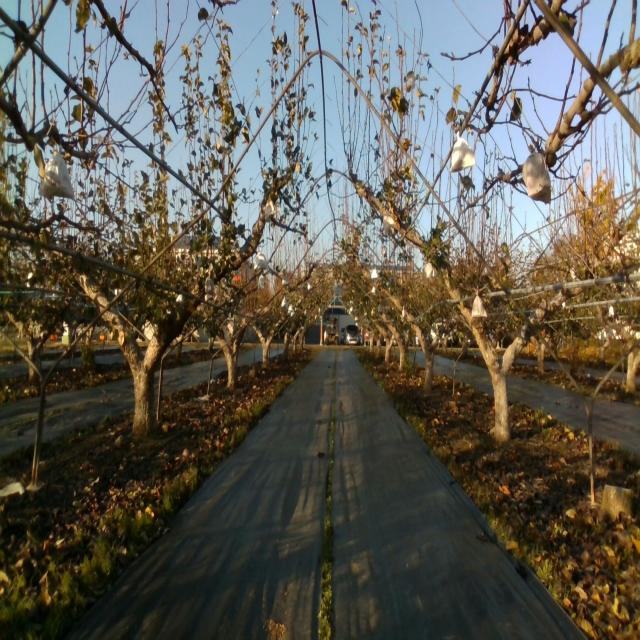pearbags: (38, 142, 75, 200), (522, 145, 551, 203), (448, 130, 476, 175), (470, 291, 486, 320), (263, 196, 279, 221), (202, 276, 218, 297), (255, 245, 267, 271), (426, 261, 439, 283), (383, 213, 394, 236)
